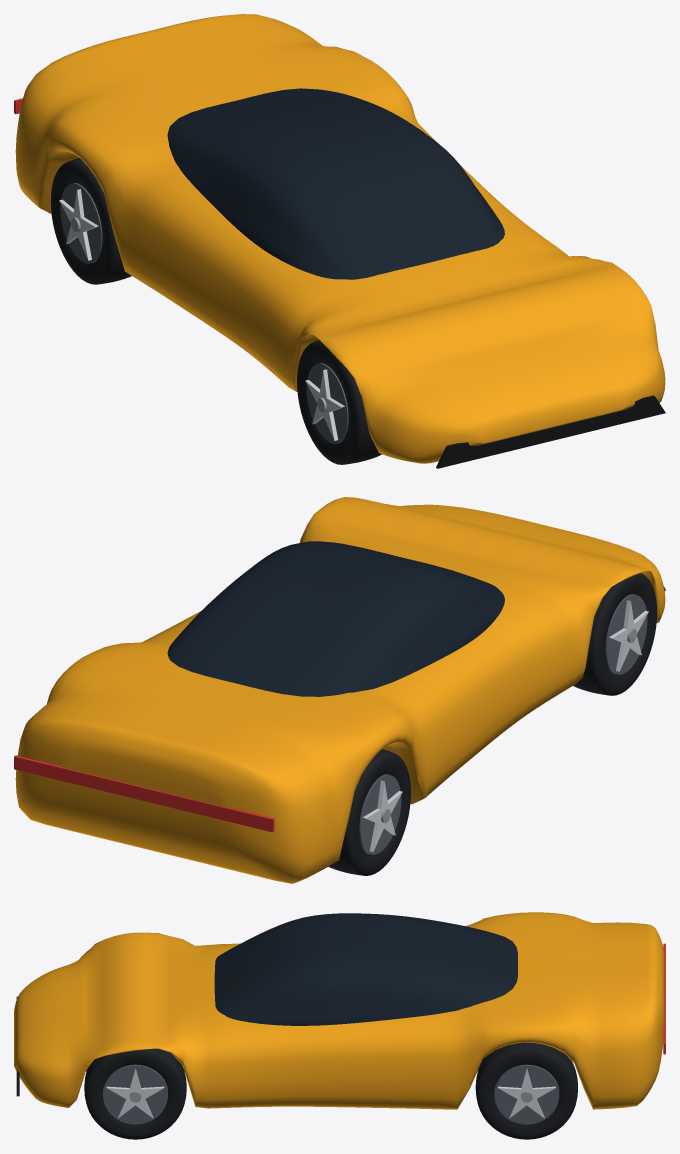
The model's file is supercar.glb.
The picture shows the model from 3 angles, top to bottom: view 1: azimuth 30°, elevation 25°; view 2: azimuth 150°, elevation 25°; view 3: azimuth 270°, elevation 25°; orthographic projection. The views are drawn at different scales.
Parts seen in each view (by area): view 1: Body, Cabin, Tyre (×2), Front intake, Rim (×2), Spokes (×2); view 2: Body, Cabin, Tyre (×2), Taillight, Rim (×2), Spokes (×2); view 3: Body, Cabin, Tyre (×2), Rim (×2), Spokes (×2).
Boxes of the visible parts, x1,y1,x2,y2 form: Body: (15, 14, 665, 463); Cabin: (167, 88, 504, 279); Tyre (×2): (50, 158, 381, 464); Front intake: (436, 395, 665, 468); Rim (×2): (60, 183, 348, 443); Spokes (×2): (59, 189, 344, 440); Body: (15, 497, 665, 883); Cabin: (167, 541, 504, 696); Tyre (×2): (328, 573, 657, 875); Taillight: (14, 755, 274, 832); Rim (×2): (359, 594, 647, 854); Spokes (×2): (363, 600, 648, 851); Body: (14, 912, 664, 1109); Cabin: (214, 913, 517, 1025); Tyre (×2): (84, 1042, 577, 1139); Rim (×2): (103, 1064, 559, 1124); Spokes (×2): (106, 1068, 555, 1118).
Size of the model in its own units: 2.05 by 1.15 by 4.66.
